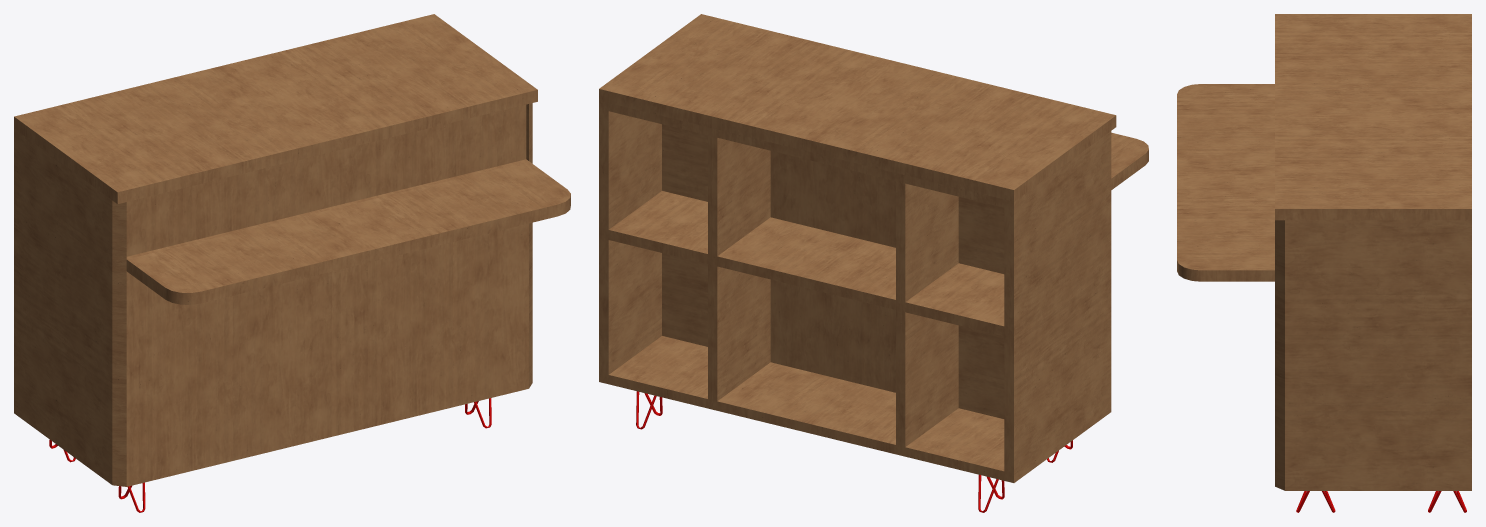
Rendered from CounterTable.fbx.
3 views of the same model, side by side, from view 1: azimuth 30°, elevation 25°; view 2: azimuth 150°, elevation 25°; view 3: azimuth 270°, elevation 25° (orthographic). The views are drawn at different scales.
Parts seen in each view (by area): view 1: CounterTable; view 2: CounterTable; view 3: CounterTable.
Part boxes in pixels (<box>): CounterTable: <box>14,14,570,512</box>; CounterTable: <box>599,14,1148,512</box>; CounterTable: <box>1177,14,1471,512</box>.
Size of the model in its own units: 139 by 107 by 88.88.
